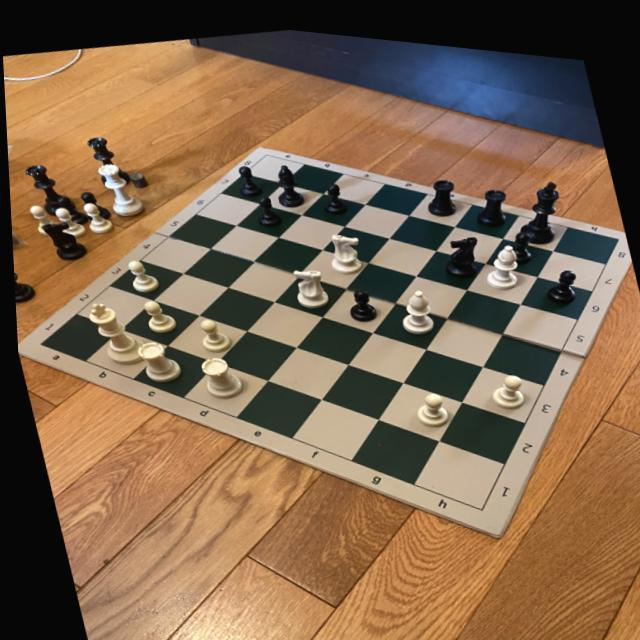chess-table-corners: (466, 492, 488, 508), (608, 219, 626, 237), (256, 144, 278, 158), (28, 336, 47, 352)
